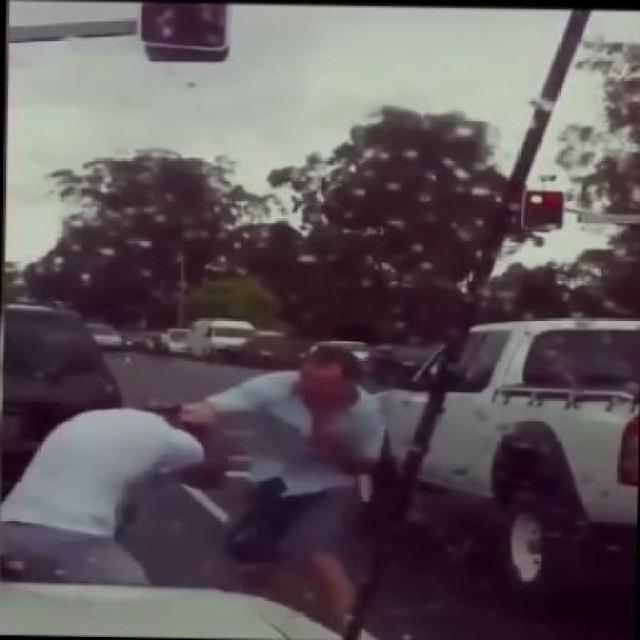fight: (3, 327, 398, 637)
